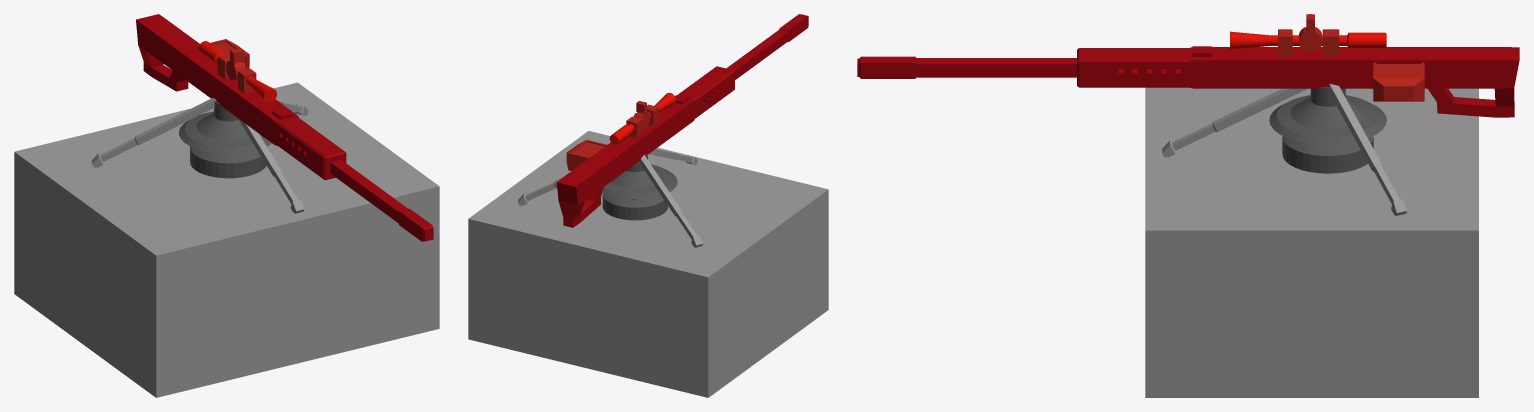
The model's file is Gun4.fbx.
The picture shows the model from 3 angles, left to right: view 1: azimuth 30°, elevation 25°; view 2: azimuth 150°, elevation 25°; view 3: azimuth 270°, elevation 25°; orthographic projection. The views are drawn at different scales.
Parts seen in each view (by area): view 1: Cube.007, Cube, Cylinder.002, Cube.005, Cube.006, Cylinder, Cylinder.001, Cube.003; view 2: Cube.007, Cube, Cylinder.002, Cube.005, Cube.003, Cylinder, Cube.004, Cube.006; view 3: Cube.007, Cube, Cylinder.002, Cube.003, Cube.004, Cube.006, Cylinder, Cylinder.001.
Boxes of the visible parts, x1,y1,x2,y2 form: Cube.007: (14, 82, 439, 397); Cube: (136, 14, 433, 241); Cylinder.002: (179, 101, 271, 178); Cube.005: (91, 98, 216, 167); Cube.006: (238, 118, 304, 213); Cylinder: (198, 41, 276, 102); Cylinder.001: (226, 48, 245, 80); Cube.003: (210, 39, 249, 68); Cube.007: (468, 131, 828, 397); Cube: (556, 14, 808, 227); Cylinder.002: (602, 154, 677, 220); Cube.005: (640, 155, 702, 247); Cube.003: (566, 140, 607, 170); Cylinder: (609, 93, 675, 144); Cube.004: (518, 177, 562, 205); Cube.006: (649, 149, 697, 165); Cube.007: (1145, 87, 1478, 397); Cube: (857, 46, 1519, 117); Cylinder.002: (1269, 87, 1386, 173); Cube.003: (1373, 62, 1424, 101); Cube.004: (1329, 83, 1406, 215); Cube.006: (1162, 88, 1307, 157); Cylinder: (1230, 31, 1386, 49); Cylinder.001: (1299, 14, 1322, 52).
Size of the model in its own units: 1.16 by 1.02 by 2.
